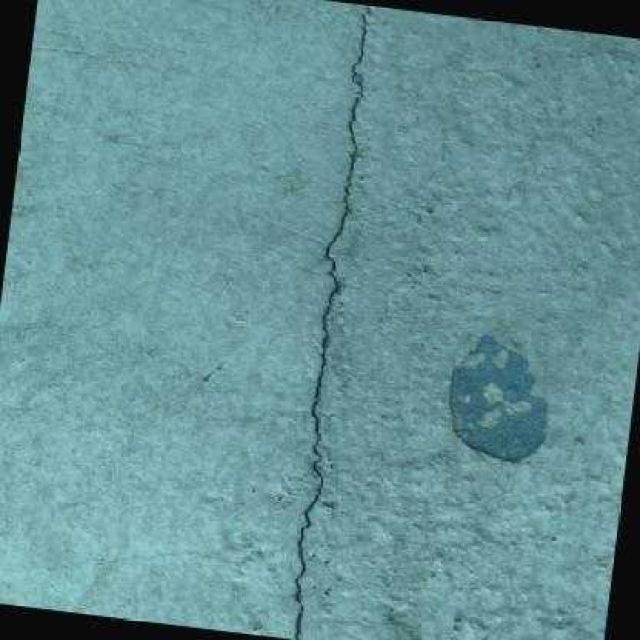D00: (294, 3, 370, 640)
